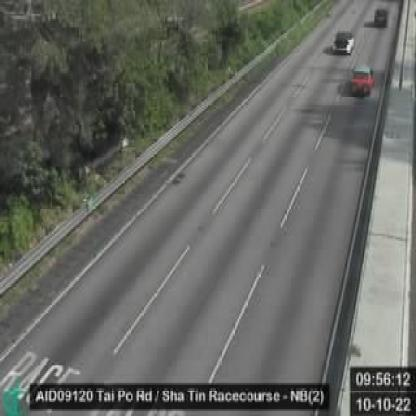Car: (352, 64, 374, 98), (334, 30, 353, 52), (374, 6, 388, 27)
